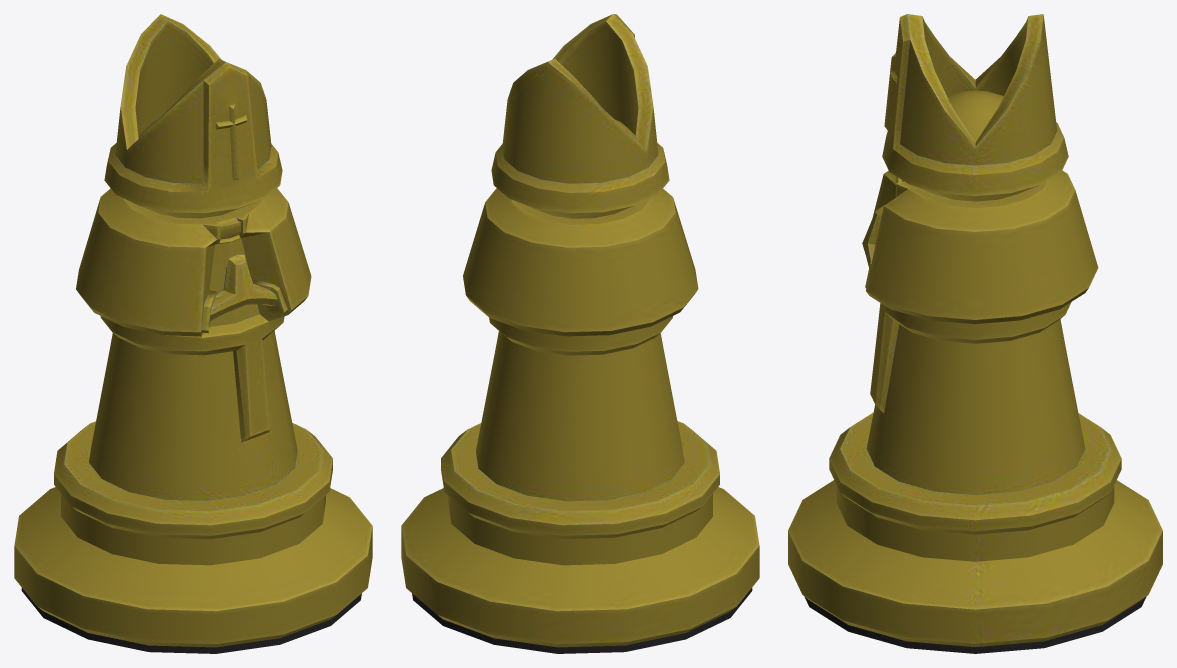
3 views of the same model, side by side, from view 1: azimuth 30°, elevation 25°; view 2: azimuth 150°, elevation 25°; view 3: azimuth 270°, elevation 25° (orthographic). The views are drawn at different scales.
Visible parts, largest first — view 1: Object_16.001; view 2: Object_16.001; view 3: Object_16.001.
Boxes of the visible parts, <box> form: Object_16.001: <box>14,14,372,653</box>; Object_16.001: <box>401,14,759,653</box>; Object_16.001: <box>788,14,1162,653</box>.
Bounding box in the file's own units: 1 × 1.66 × 1.
Materials: 1 (1 with a texture image).
